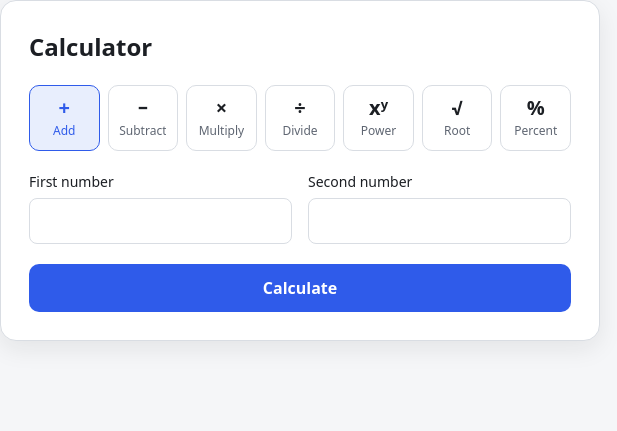
Test: Calculator › shows the API error message
Step 1. Click the button "÷ Divide" → (300, 118), box top-left (265, 85), bottom-right (335, 151)
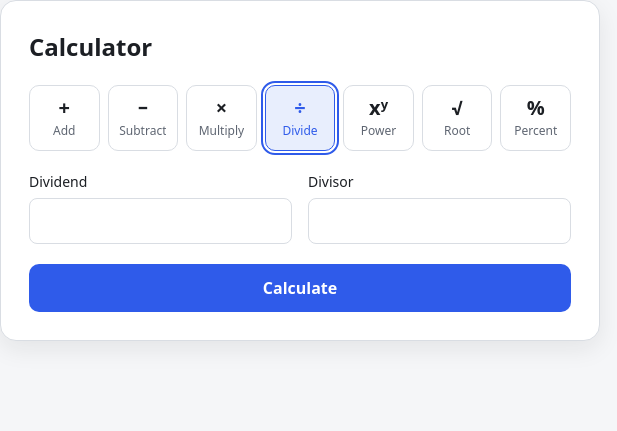
Step 2. Type "1" into the number field labelled "Dividend" → (160, 221), box top-left (29, 198), bottom-right (292, 244)
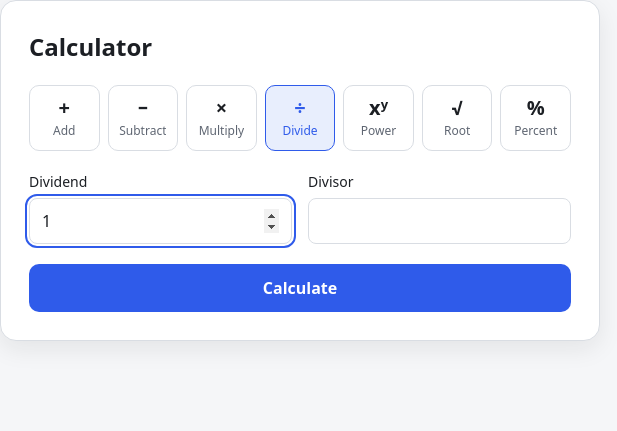
Step 3. Type "0" into the number field labelled "Divisor" → (440, 221), box top-left (308, 198), bottom-right (571, 244)
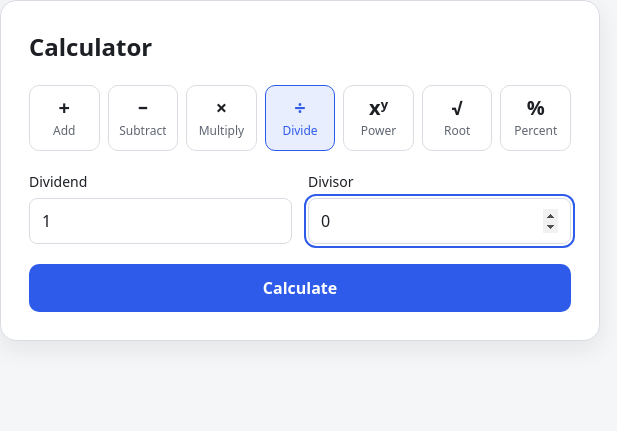
Step 4. Click the button "Calculate" → (300, 288), box top-left (29, 264), bottom-right (571, 312)
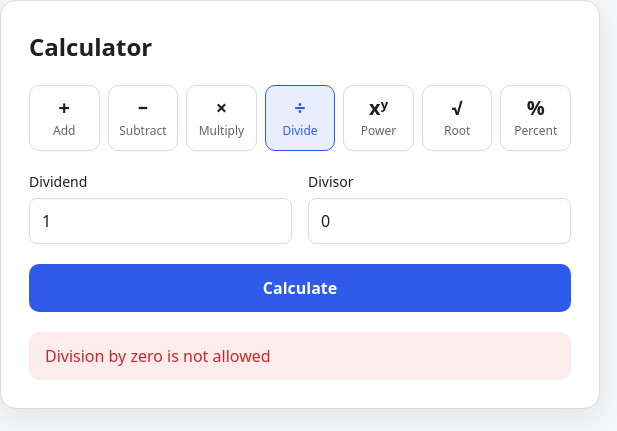
Expected: the message reads "Division by zero is not allowed", top-left (45, 345), bottom-right (271, 367)
